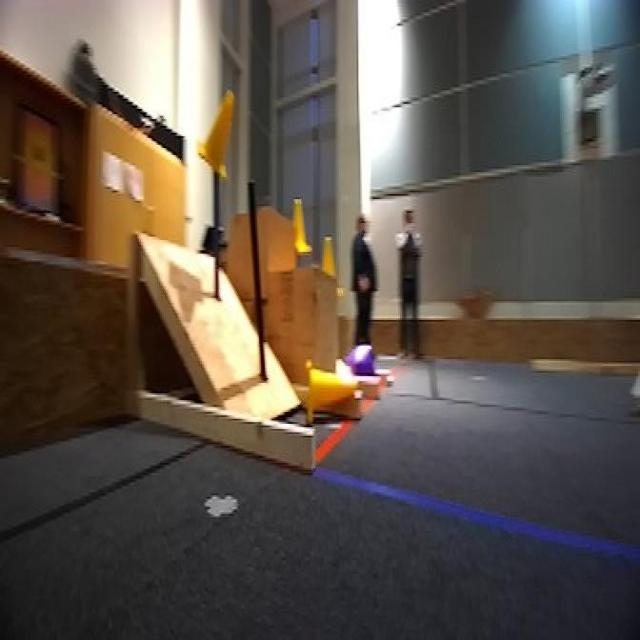frc_cone: (303, 357, 357, 424), (200, 90, 239, 182), (290, 192, 312, 260), (318, 233, 335, 283)
frc_cube: (347, 347, 375, 385)
